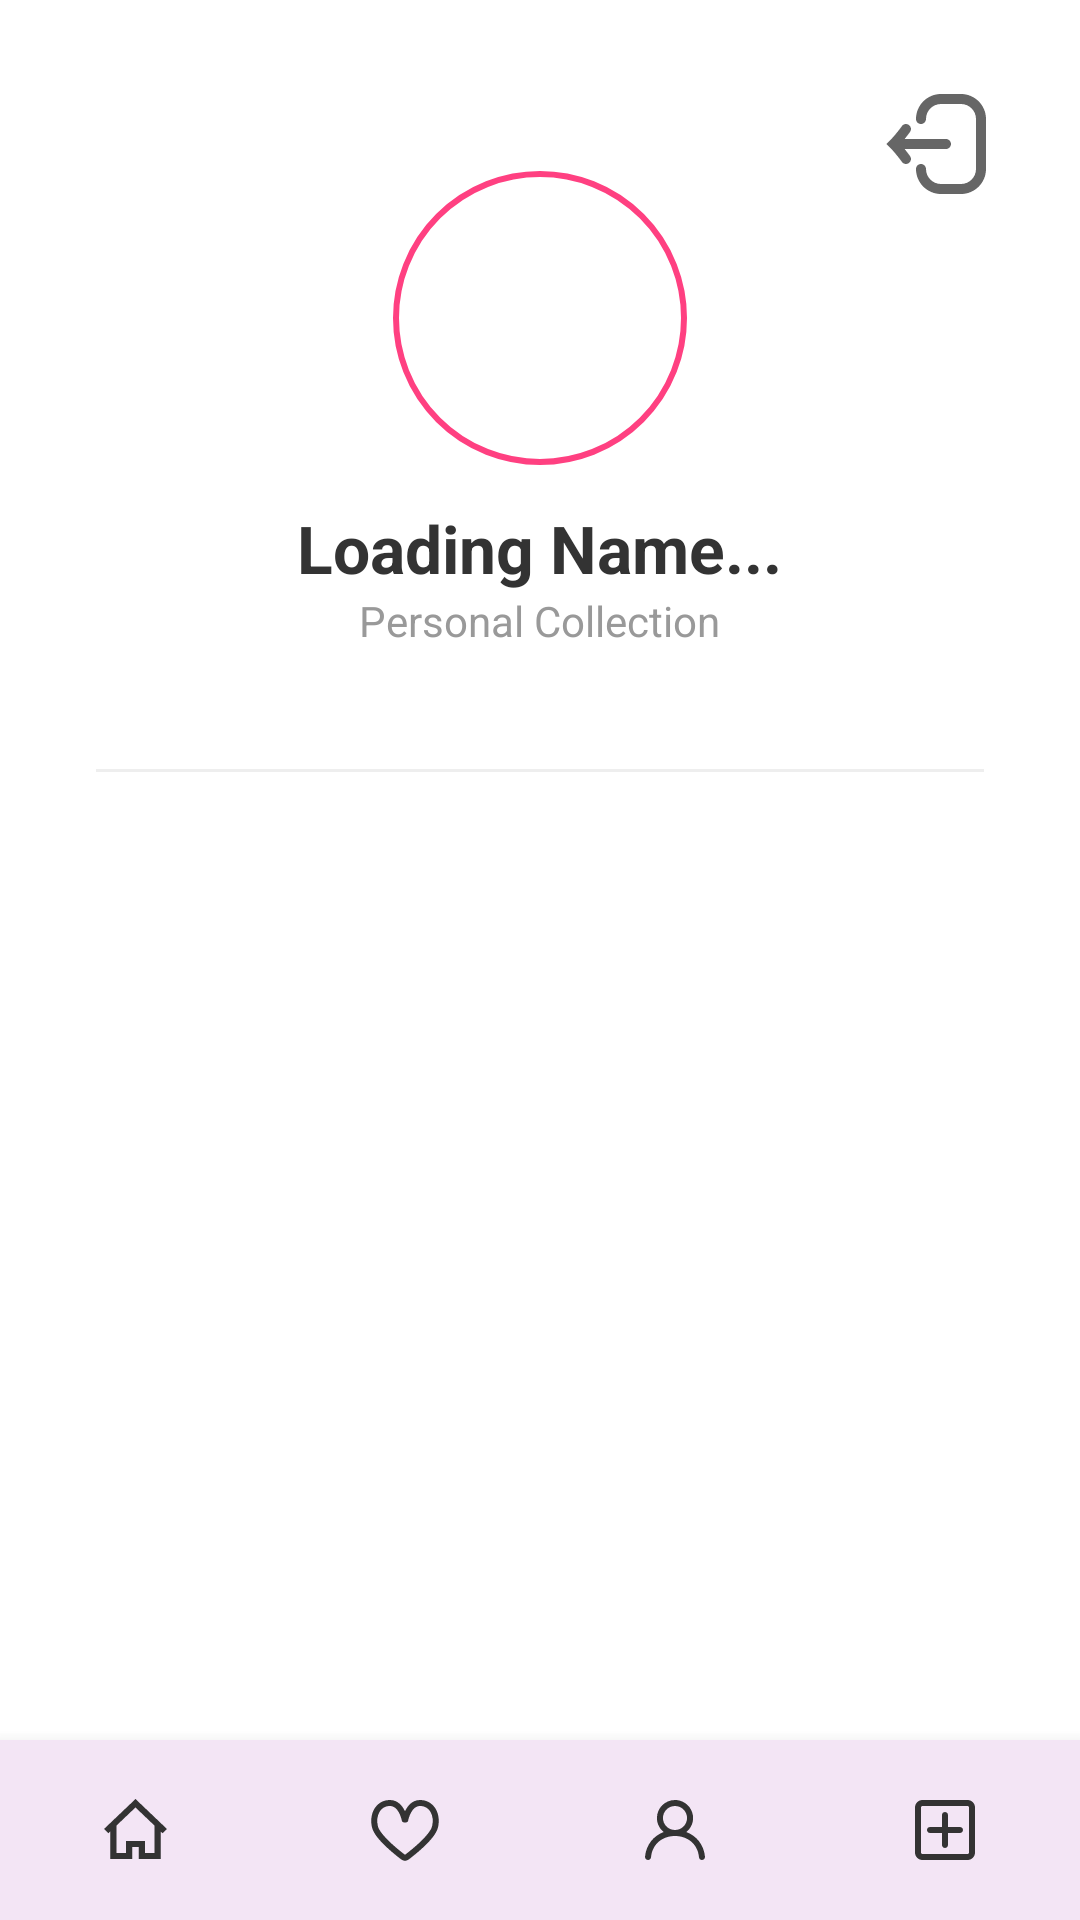

Named icons in this screenshot (1080px x 1920px) and their bounding boxes, (x1, y1, x2, y2):
heart tool bar: (371, 1800, 439, 1861)
home: (104, 1799, 167, 1859)
person: (645, 1800, 705, 1860)
plus: (915, 1800, 975, 1860)
